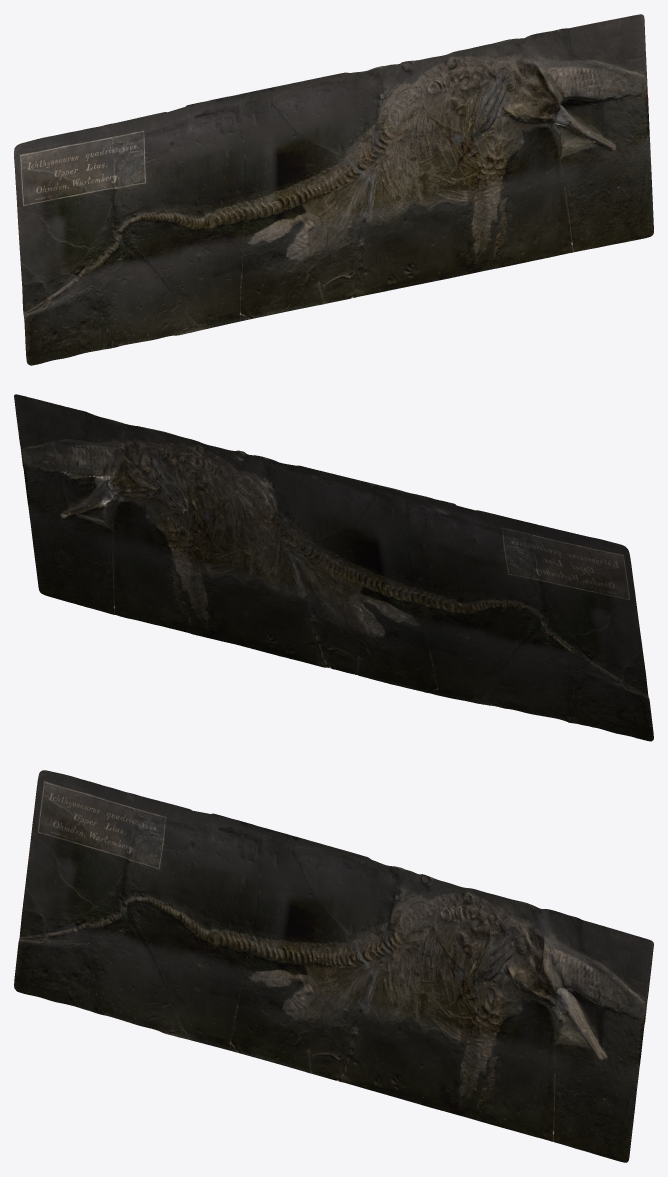
The model's file is ichthyosaur.glb.
3 views of the same model, one above another, from view 1: azimuth 30°, elevation 25°; view 2: azimuth 150°, elevation 25°; view 3: azimuth 330°, elevation 25° (orthographic).
Bounding box in the file's own units: 3381 × 1130 × 286.
Materials: 1 (1 with a texture image).
